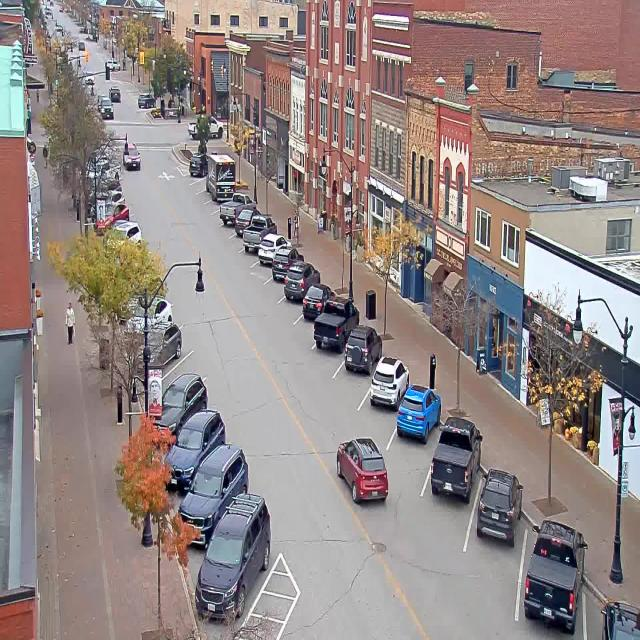available: (171, 342, 207, 392)
occupied: (194, 491, 271, 622), (176, 442, 249, 548), (523, 518, 588, 634), (162, 408, 226, 491), (430, 415, 482, 504), (152, 372, 208, 445), (476, 467, 523, 546), (396, 383, 441, 443), (313, 296, 359, 353), (597, 587, 640, 640), (370, 354, 410, 410), (344, 323, 382, 374), (284, 260, 320, 302), (300, 277, 332, 321), (206, 152, 236, 198), (242, 214, 272, 254), (220, 192, 258, 221), (270, 245, 297, 281), (257, 233, 285, 264), (234, 210, 257, 237), (186, 150, 207, 177)
